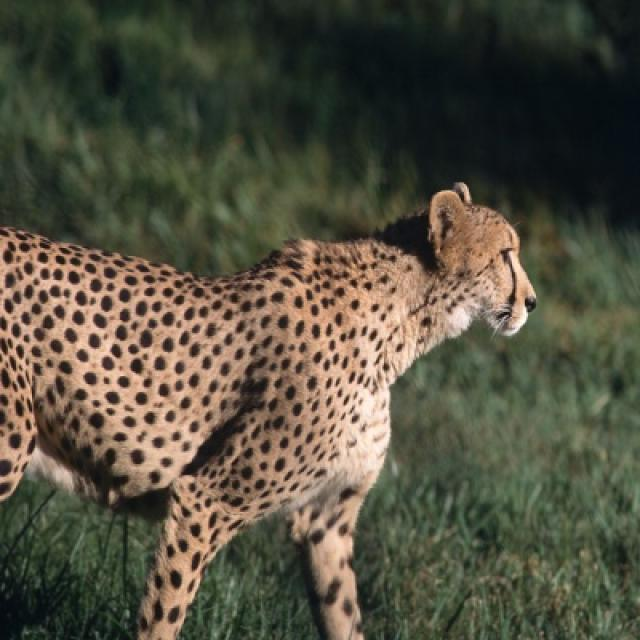Cheetah: (0, 182, 538, 638)
